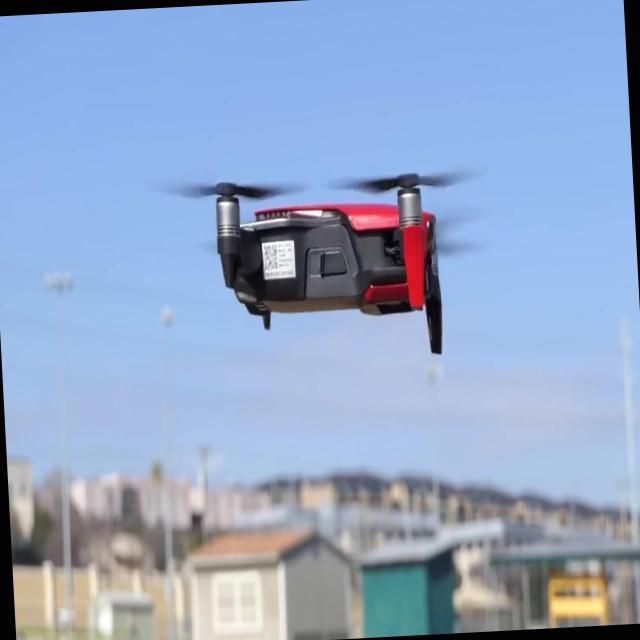drone: (207, 165, 460, 368)
